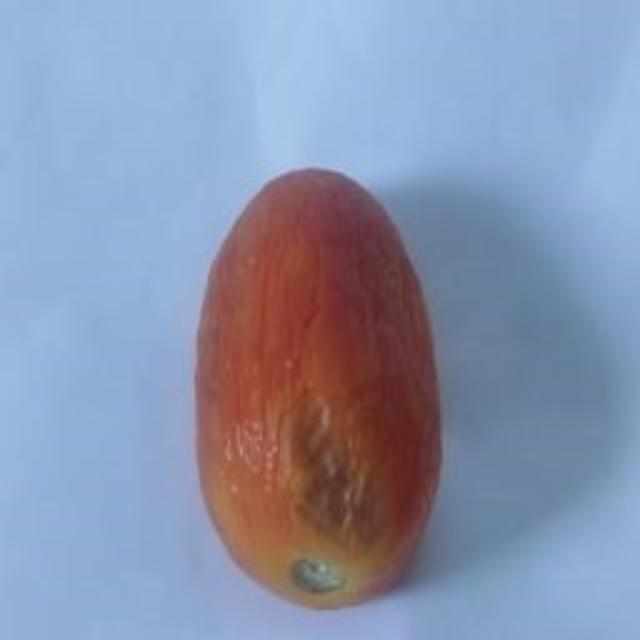defect: (187, 156, 446, 612)
